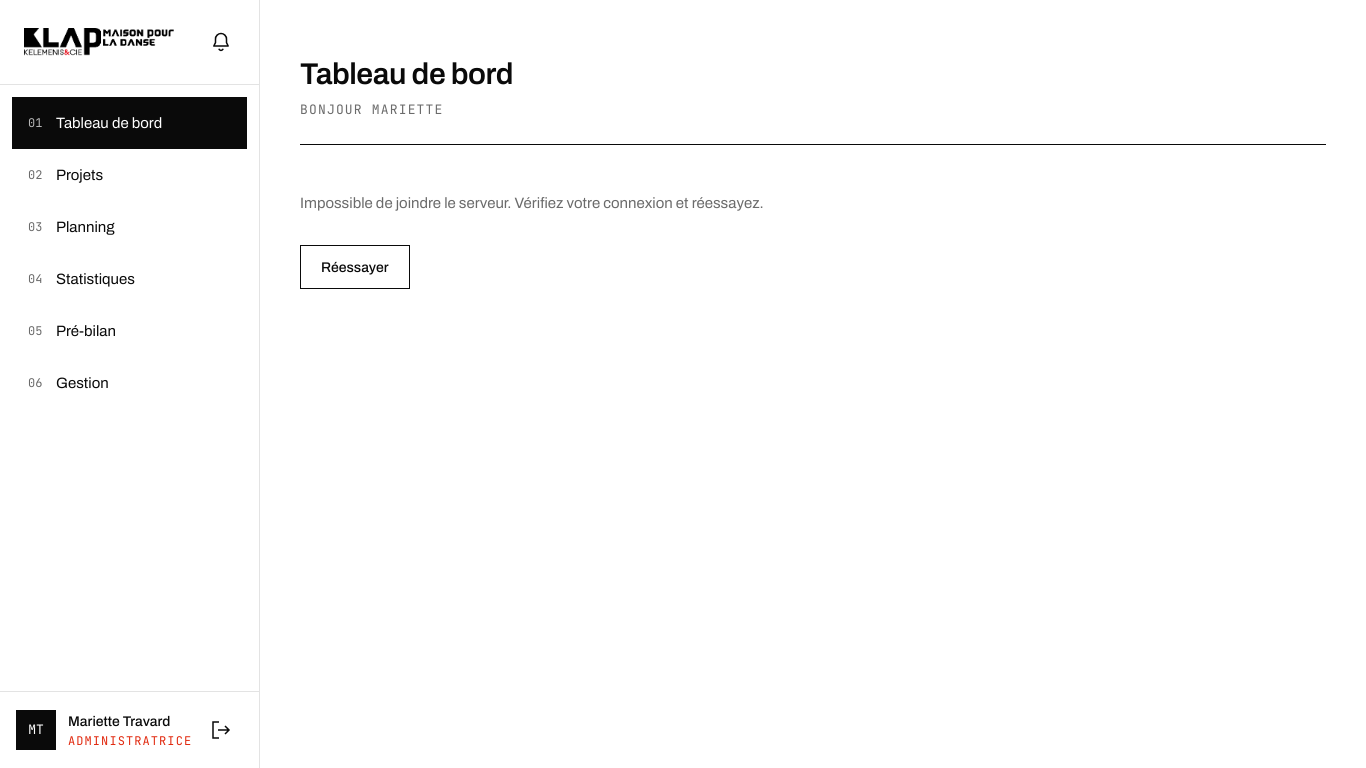
Scenario: Navigation principale › renvoie vers la connexion après la déconnexion
What coordinates should you click on to do the following:
click the button named "Se déconnecter"
I would click on:
 (221, 730)
Its box is 199,708 -> 243,752.
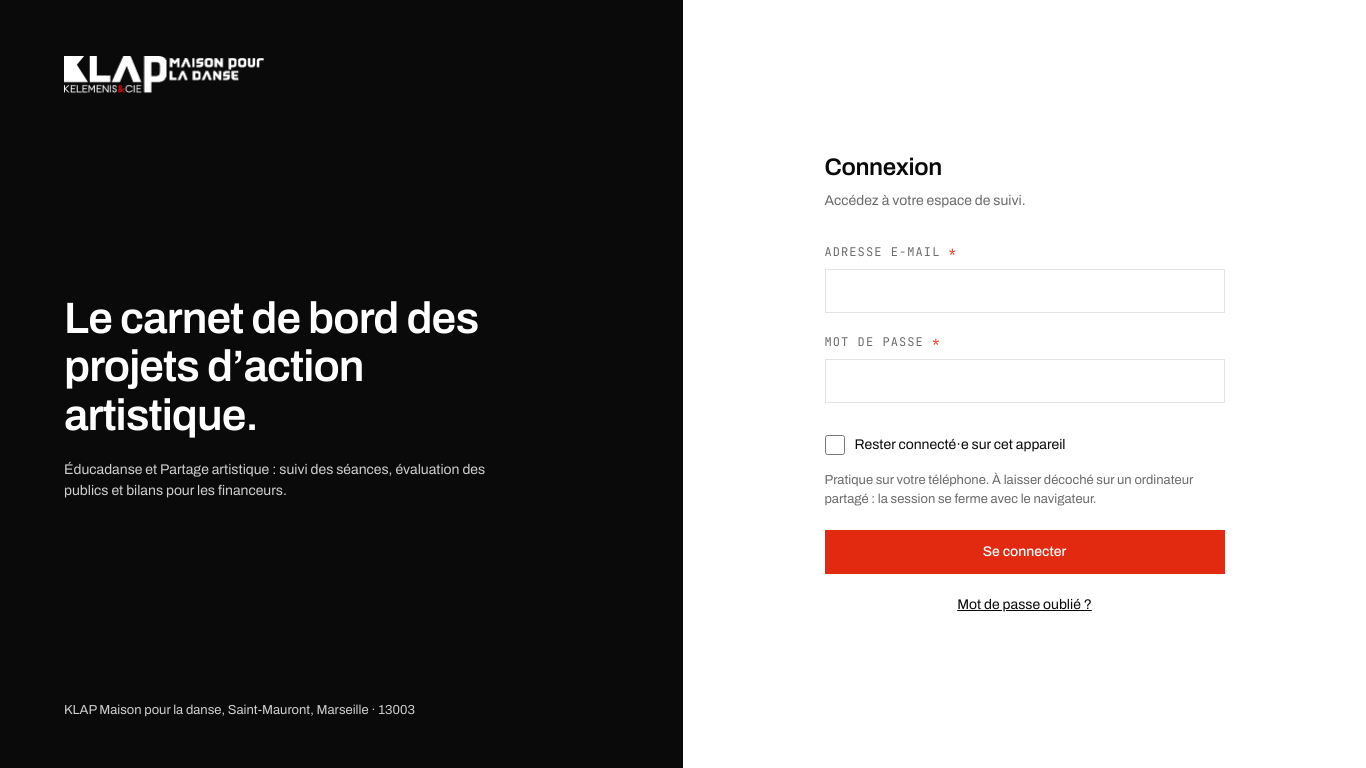
Expected: the heading "Connexion" is shown, 824,154 -> 942,180
Expected: the link "Mariette Travard" is gone
Expected: the navigation bar is gone
